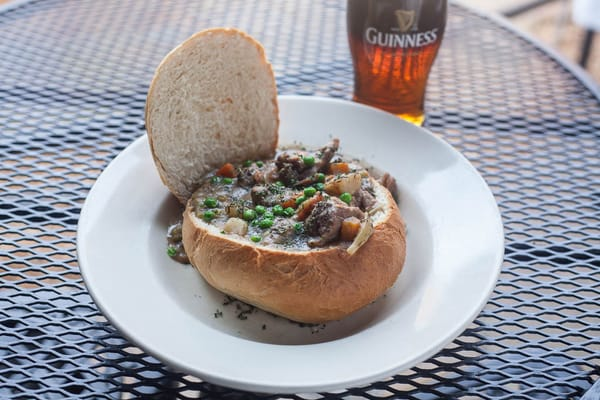pizza: (345, 0, 449, 126)
soup: (180, 136, 408, 327), (145, 26, 280, 205)
